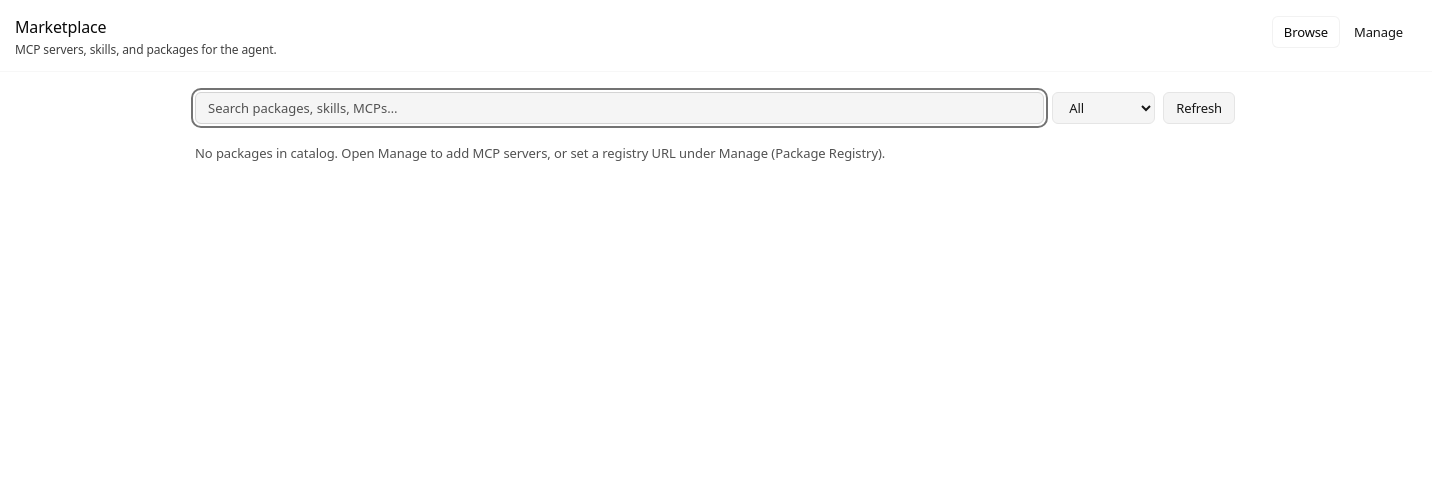
Marketplace manage hub › disables workspace skill New without a workspace
The width and height of the screenshot is (1432, 504).
Click the tab "Manage" at (1378, 32), box left=1342, top=16, right=1415, bottom=48
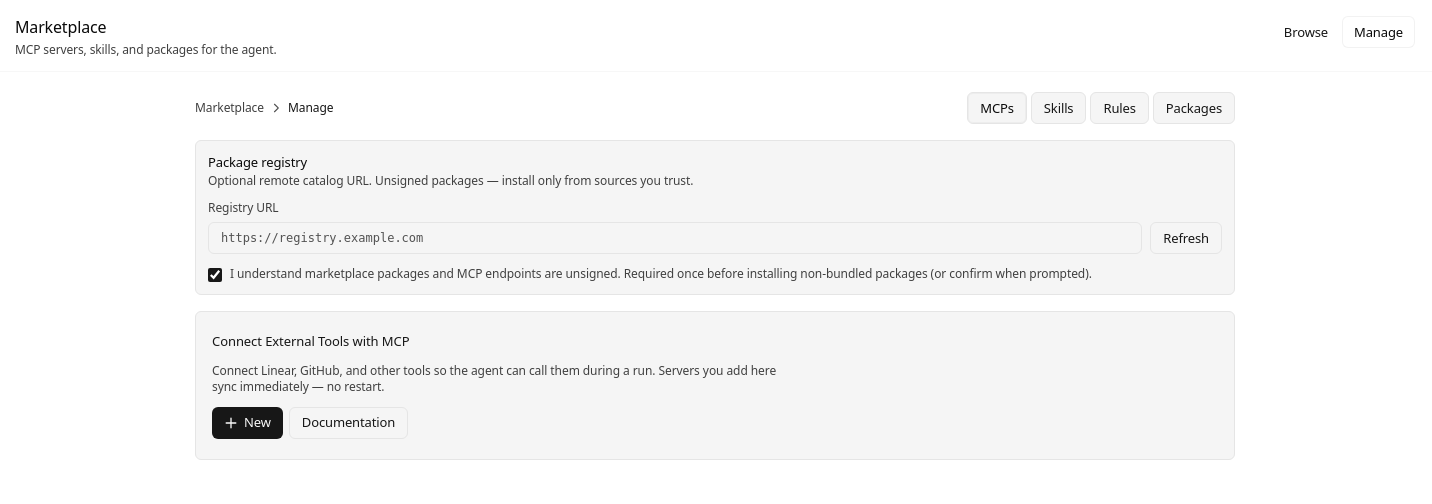
Click the tab "Skills" at (1059, 108), box left=1031, top=92, right=1086, bottom=124
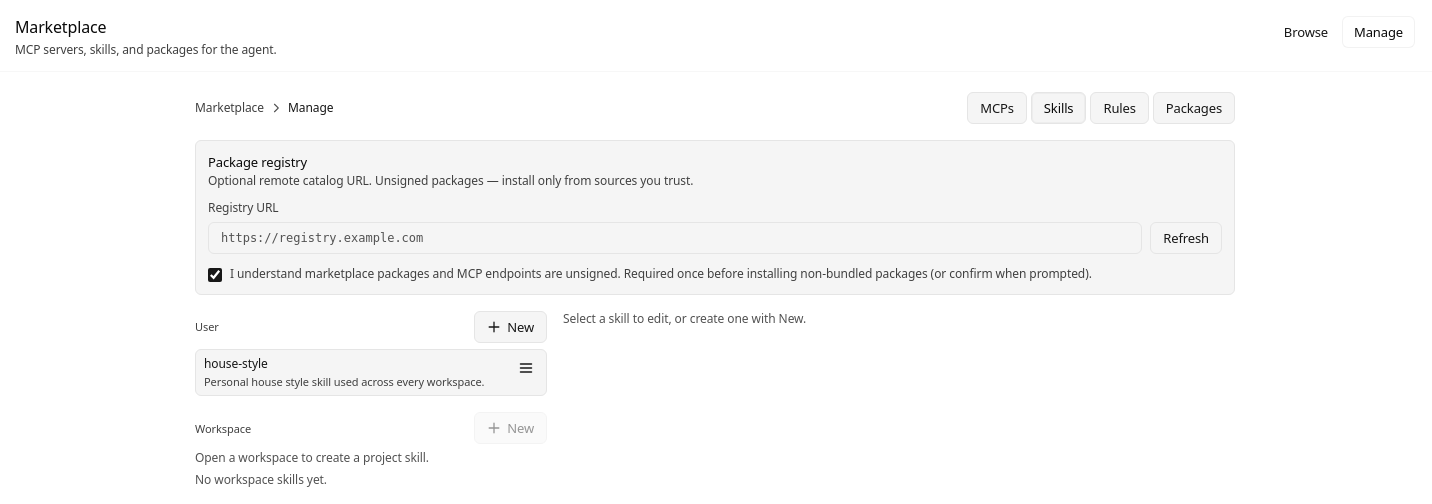
Check: the button with aria-label "New workspace skill" is disabled, box left=474, top=412, right=547, bottom=444
Check: the text "Open a workspace to create a project skill." is shown, box left=195, top=449, right=429, bottom=466
